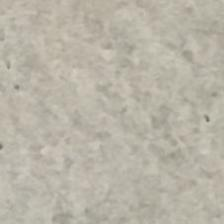Non_Crack: (22, 22, 209, 192)
